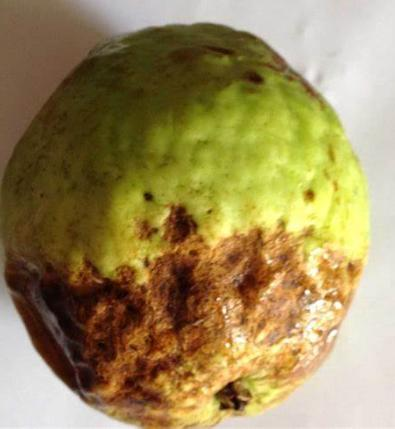guava_C: (1, 23, 371, 429)
